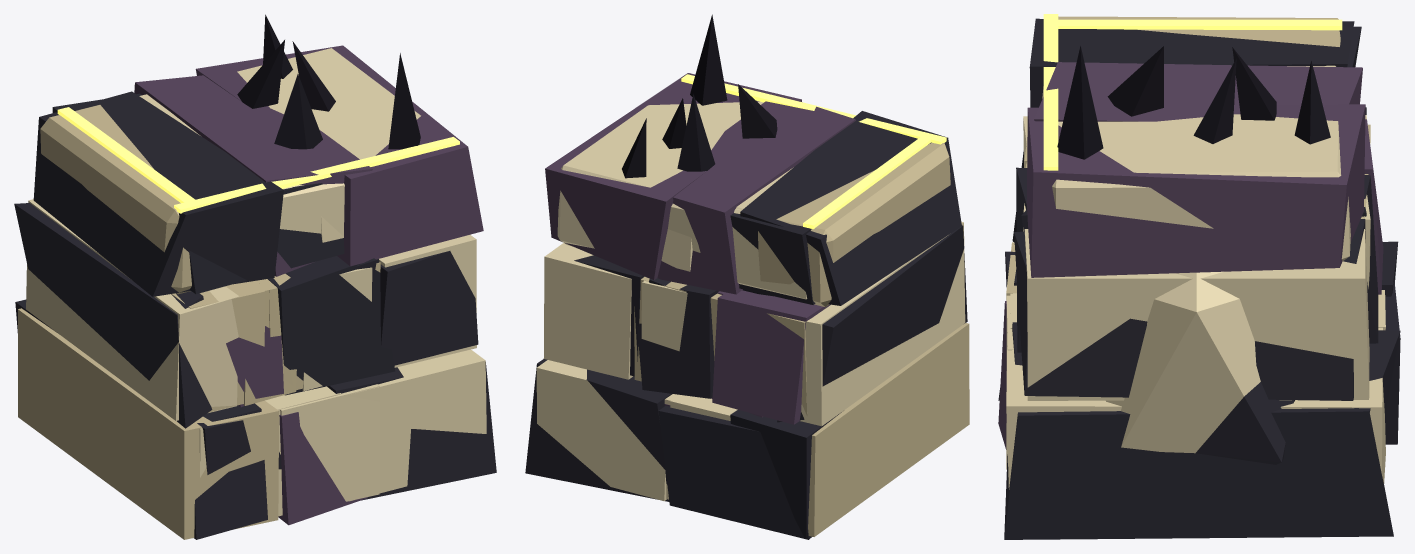
Rendered from wall_end.glb.
The picture shows the model from 3 angles, left to right: view 1: azimuth 30°, elevation 25°; view 2: azimuth 150°, elevation 25°; view 3: azimuth 270°, elevation 25°; orthographic projection. The views are drawn at different scales.
Parts seen in each view (by area): view 1: wall_end_corrupted, wall_end_restored, wall_corner_corrupted, wall_corner_restored; view 2: wall_corner_corrupted, wall_end_corrupted, wall_end_restored, wall_corner_restored; view 3: wall_corner_corrupted, wall_corner_restored, wall_end_corrupted, wall_end_restored.
Boxes of the visible parts, x1,y1,x2,y2 form: wall_end_corrupted: [14, 14, 376, 539]; wall_end_restored: [18, 94, 379, 539]; wall_corner_corrupted: [52, 45, 496, 500]; wall_corner_restored: [57, 48, 486, 516]; wall_corner_corrupted: [525, 14, 830, 539]; wall_end_corrupted: [622, 94, 967, 538]; wall_end_restored: [641, 101, 969, 536]; wall_corner_restored: [536, 74, 931, 501]; wall_corner_corrupted: [1004, 26, 1400, 539]; wall_corner_restored: [1006, 19, 1385, 489]; wall_end_corrupted: [998, 18, 1398, 464]; wall_end_restored: [1006, 14, 1382, 469].
Size of the model in its own units: 1.04 by 1.24 by 0.9655.
